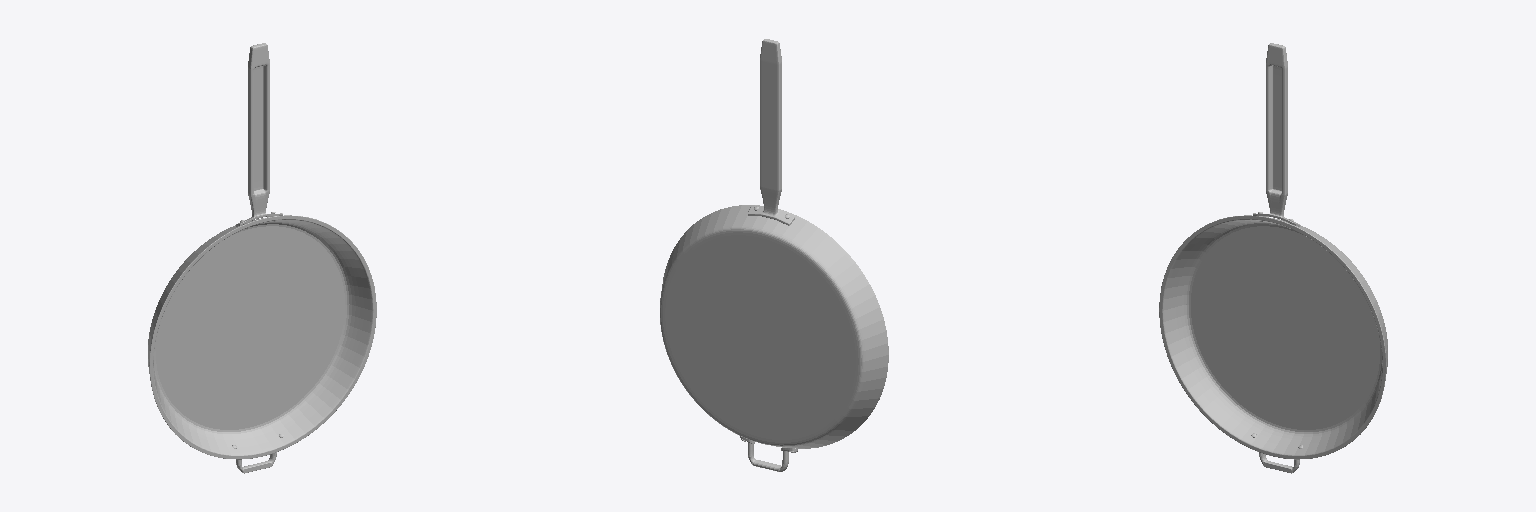
Rendered from pan.obj.
3 views of the same model, side by side, from view 1: azimuth 30°, elevation 25°; view 2: azimuth 150°, elevation 25°; view 3: azimuth 330°, elevation 25° (orthographic).
Parts seen in each view (by area): view 1: pan001; view 2: pan001; view 3: pan001.
Boxes of the visible parts, box(x1,y1,x2,y2) form: pan001: box(148, 43, 376, 473); pan001: box(660, 39, 888, 471); pan001: box(1159, 43, 1387, 473).
Bounding box in the file's own units: 277 × 496 × 31.11.